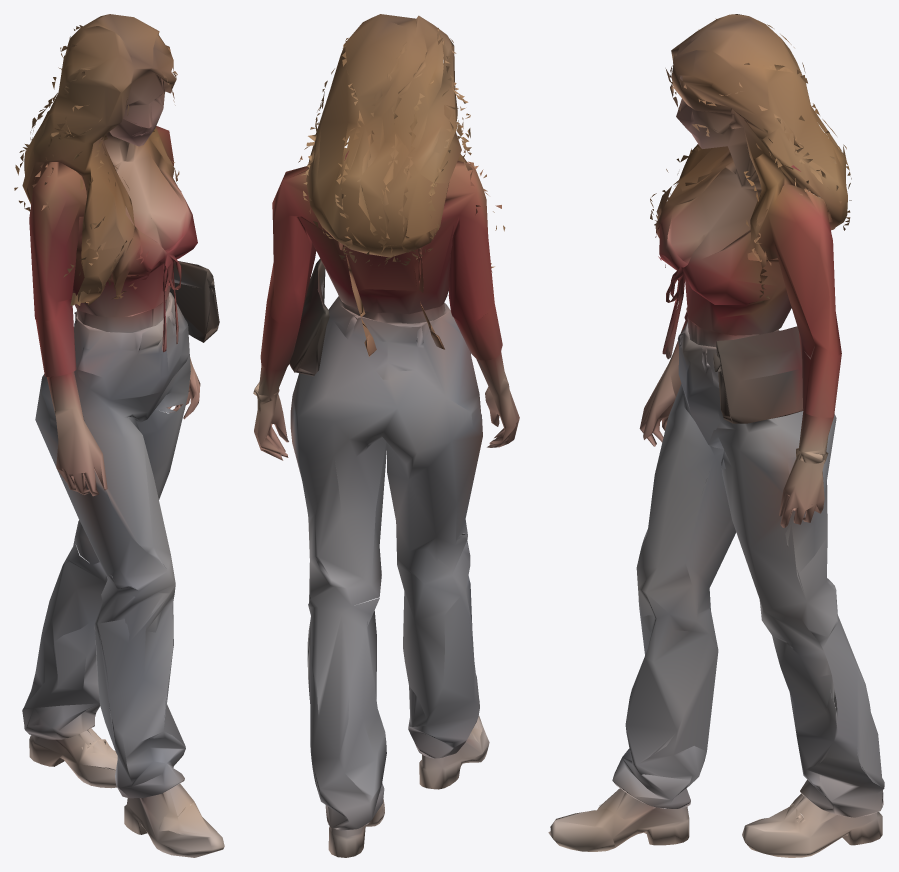
Rendered from femme-2.glb.
3 views of the same model, side by side, from view 1: azimuth 30°, elevation 25°; view 2: azimuth 150°, elevation 25°; view 3: azimuth 270°, elevation 25° (orthographic). The views are drawn at different scales.
Parts seen in each view (by area): view 1: spectateur; view 2: spectateur; view 3: spectateur.
Part boxes in pixels (x1,y1,x2,y2): spectateur: (14,14,224,857); spectateur: (253,14,519,857); spectateur: (548,14,884,857).
Bounding box in the file's own units: 0.4559 × 1.7 × 0.632.
